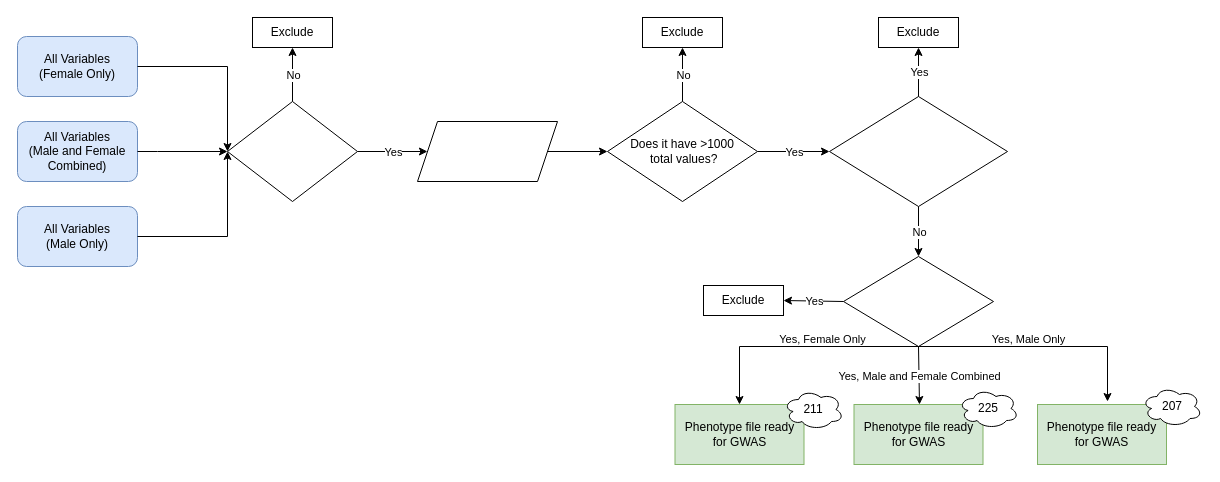
This 1220x482 diagram has some shape labels left out. The shapes that lost their labels are listed below. From the top down, each one's centre as x and y in pixels, then its label:
At point (292, 151): "Does it have >20 unique values?".
At point (487, 151): "Remove values ±5 SD from the mean".
At point (918, 151): "Does one value account for 10% of all values?".
At point (918, 301): "Is it irrelevant for GWAS or is it redundant?".
